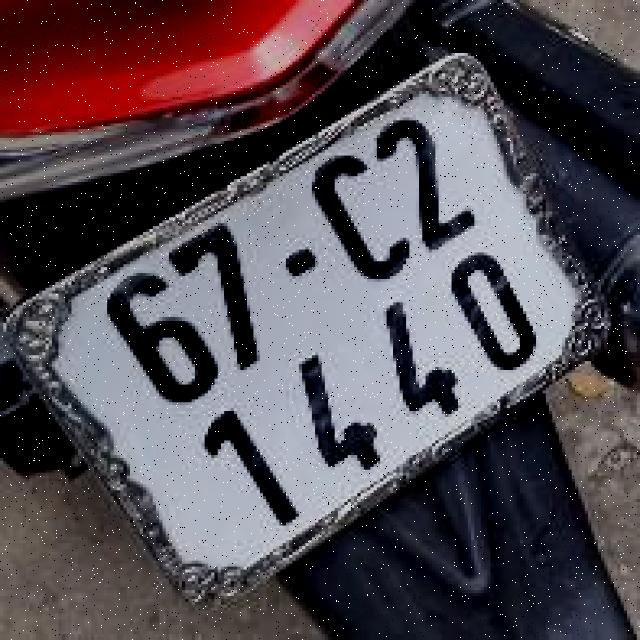0: (431, 233, 567, 391)
1: (183, 393, 327, 550)
2: (358, 106, 498, 268)
4: (352, 286, 490, 451), (265, 341, 402, 501)
6: (88, 251, 242, 431)
7: (151, 211, 295, 391)
C: (289, 141, 431, 303)
